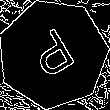P_SE: (24, 23, 83, 85)
